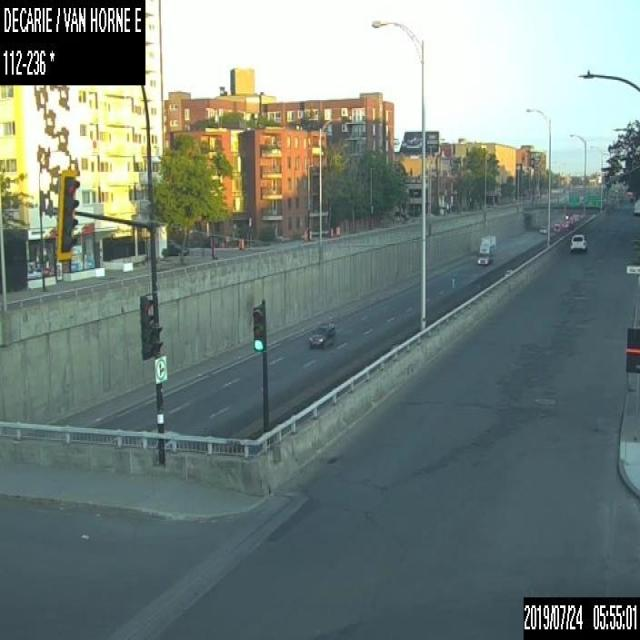construction: (335, 224, 339, 236), (238, 237, 240, 249), (241, 237, 243, 249), (330, 227, 332, 236)
vehicle: (307, 320, 334, 347), (476, 233, 498, 264), (568, 232, 587, 252), (167, 238, 188, 254), (633, 199, 639, 214), (552, 222, 560, 232), (538, 225, 546, 234)
